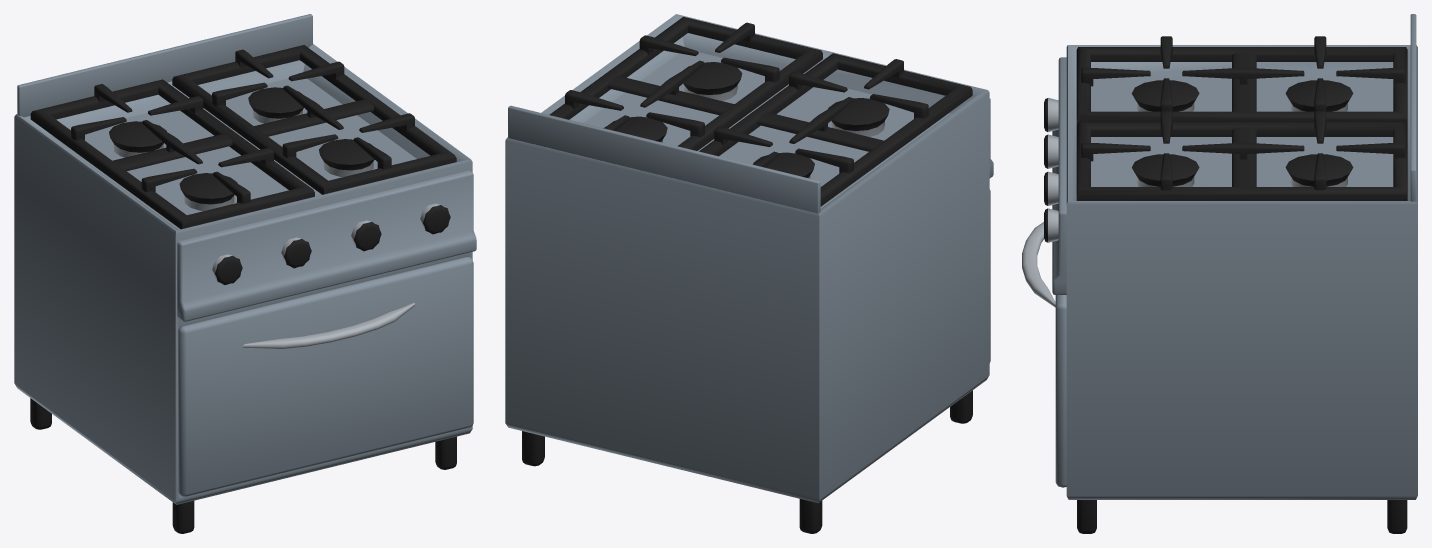
Rendered from Hearth-Oven.fbx.
The picture shows the model from 3 angles, left to right: view 1: azimuth 30°, elevation 25°; view 2: azimuth 150°, elevation 25°; view 3: azimuth 270°, elevation 25°; orthographic projection. The views are drawn at different scales.
Visible parts, largest first — view 1: Hearth-Oven, Hearth-Oven-Cover; view 2: Hearth-Oven; view 3: Hearth-Oven, Hearth-Oven-Cover.
Part boxes in pixels (box(x1,y1,x2,y2)): Hearth-Oven: box(14, 14, 476, 533); Hearth-Oven-Cover: box(178, 256, 473, 496); Hearth-Oven: box(505, 14, 993, 533); Hearth-Oven: box(1044, 14, 1417, 533); Hearth-Oven-Cover: box(1022, 222, 1066, 487).
Size of the model in its own units: 1 by 1.09 by 1.06.
